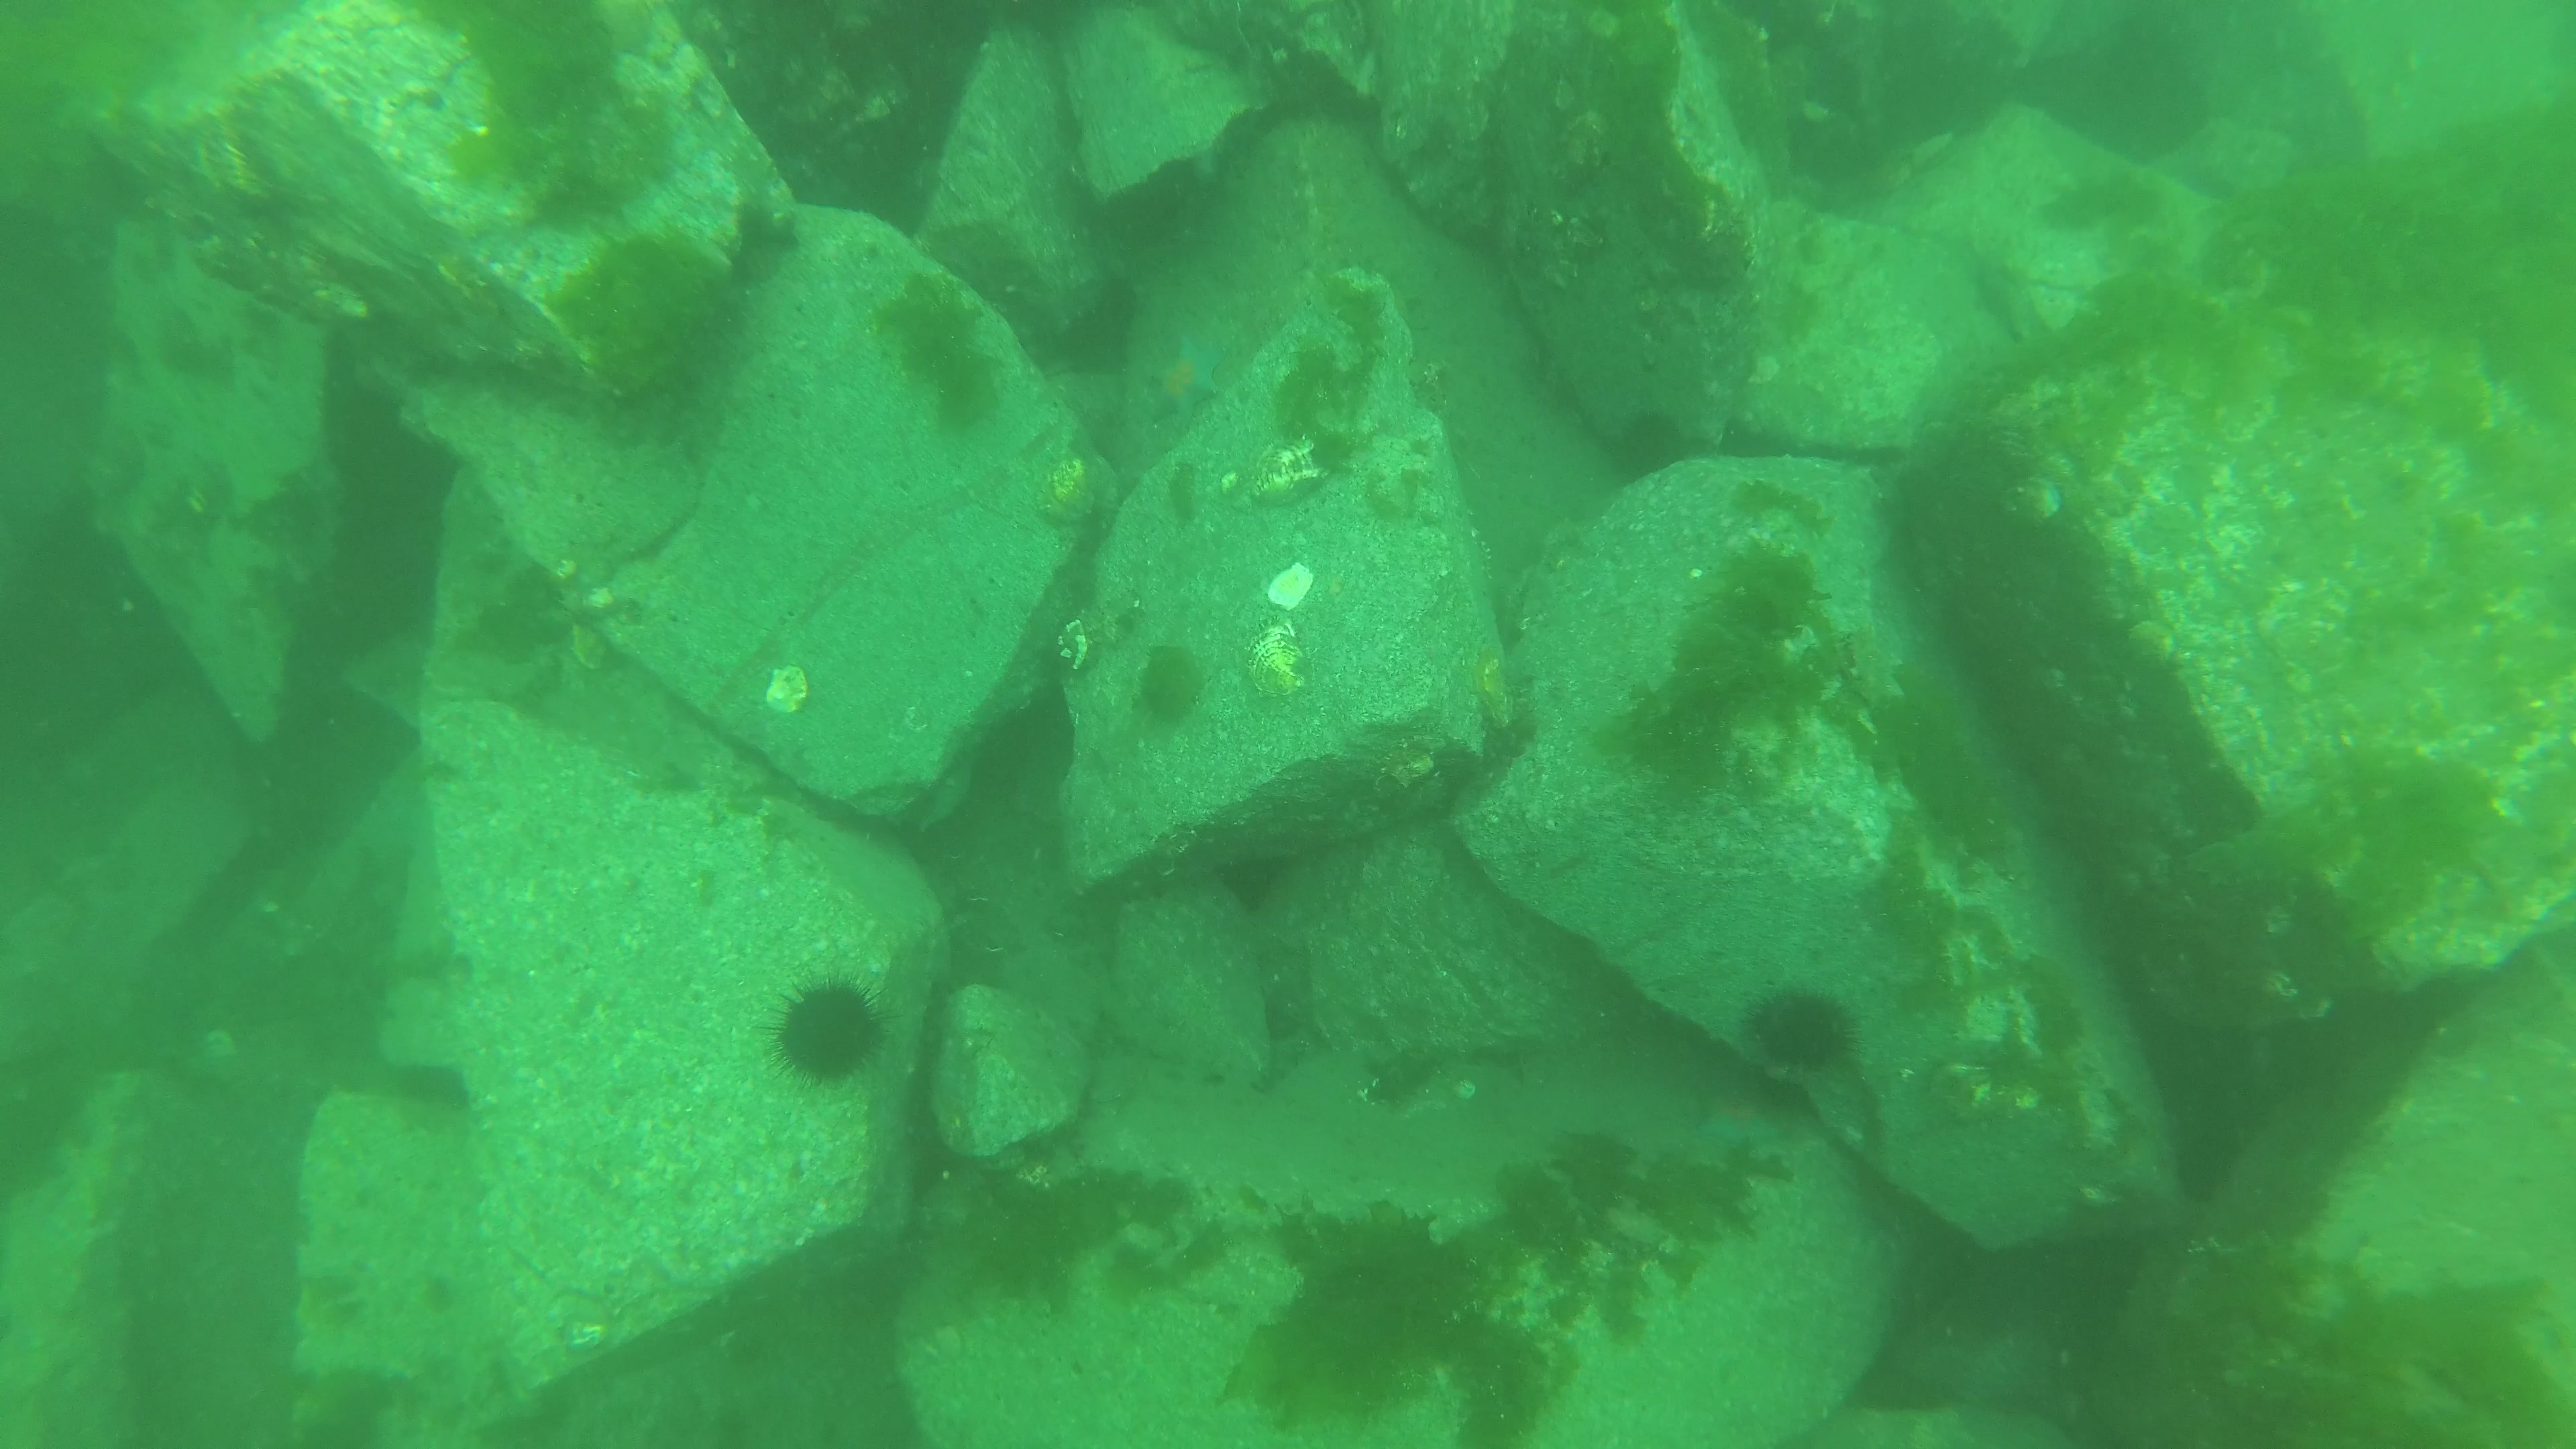echinus: (747, 970, 902, 1099), (1741, 973, 1863, 1088)
starfish: (1143, 331, 1230, 430)
